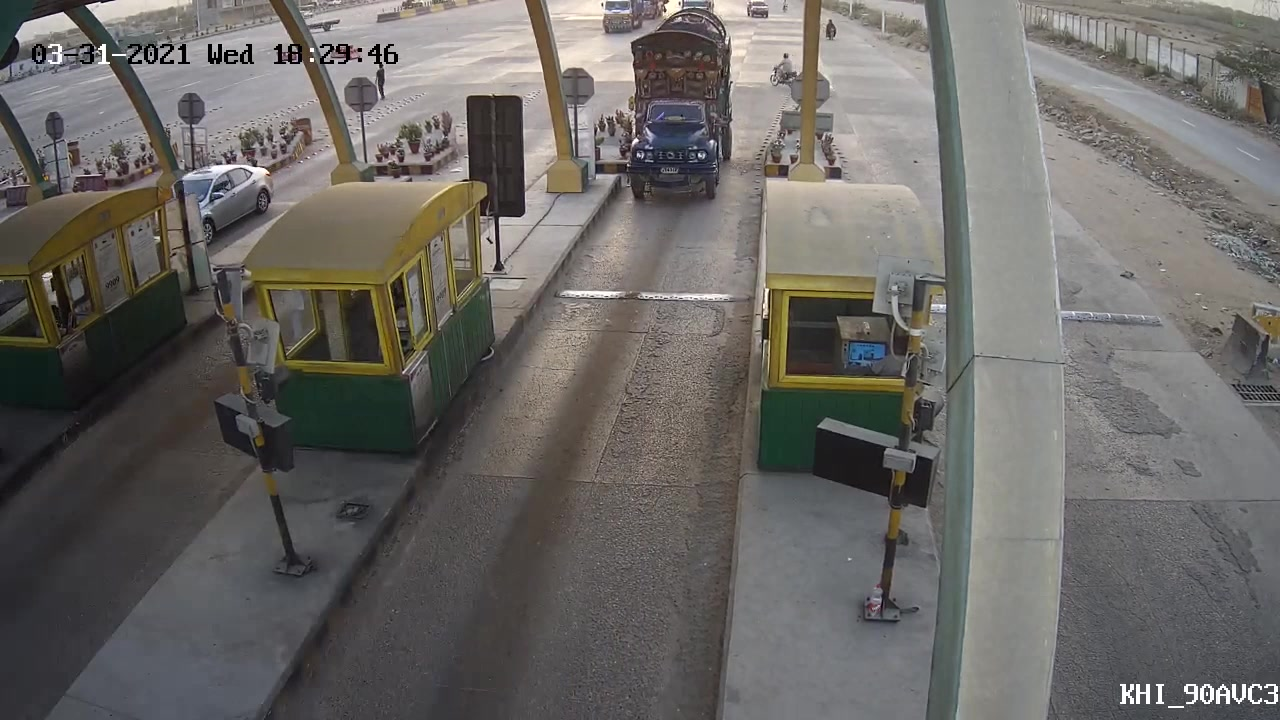F5: (614, 23, 736, 210)
